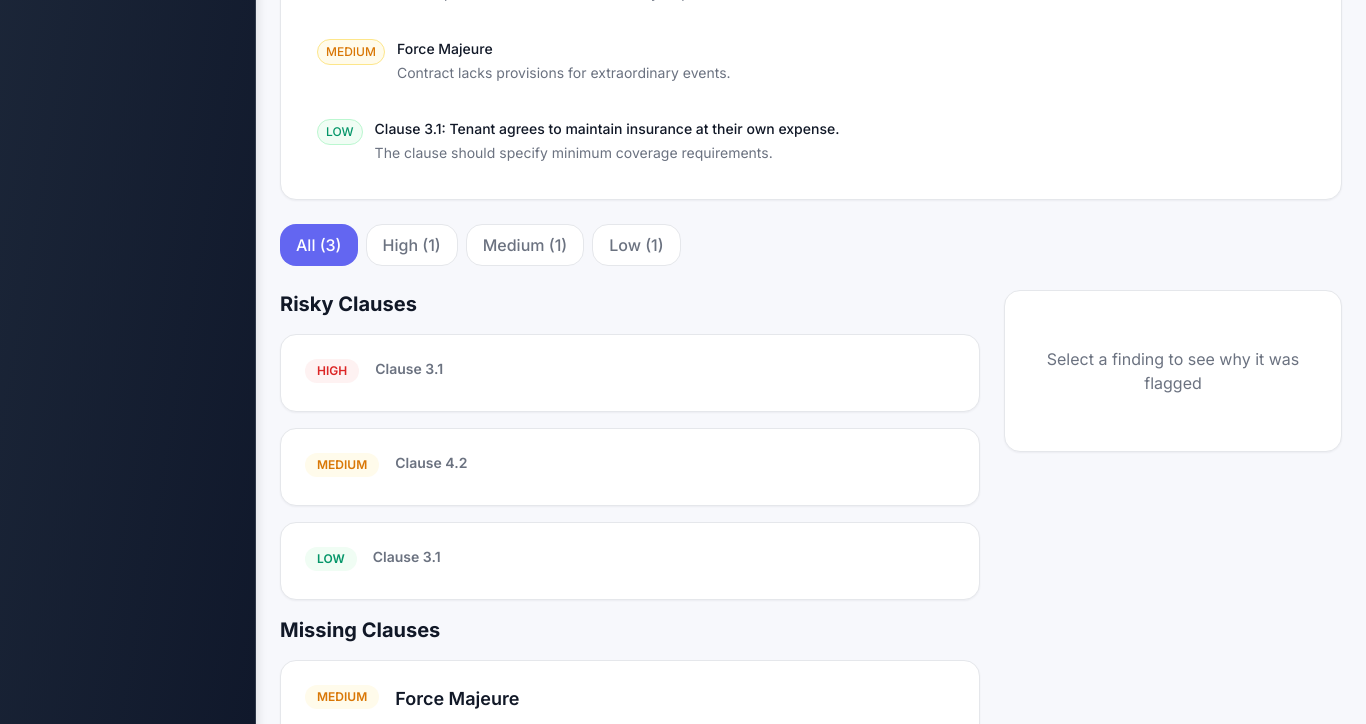
Test: ReportView › clicking finding shows why-flagged panel with reason
(page scrolled)
Click first finding card (by clause number since cards are collapsed)
Click the element with test id "finding-card" showing "high Clause 3.1".
click(630, 373)  # box [280, 334, 980, 412]
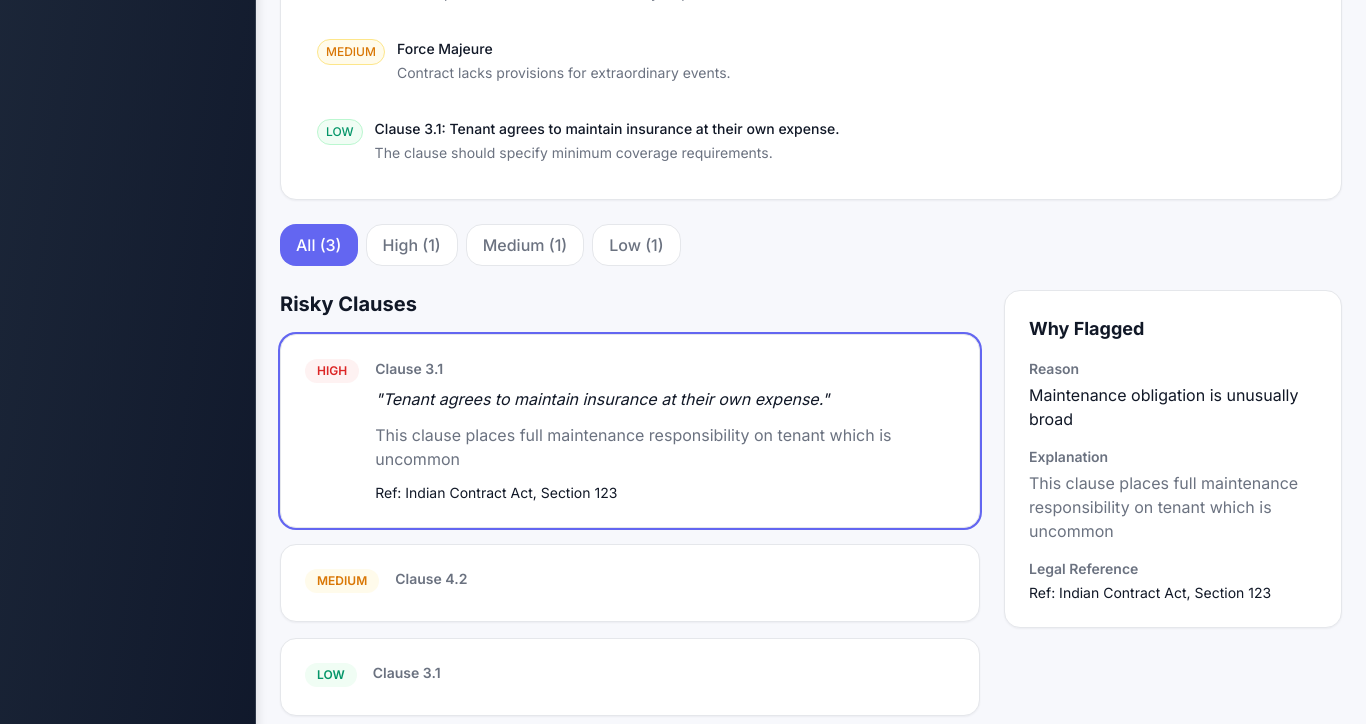
Expected: the text "Maintenance obligation is unusually broad" is shown 2 times
